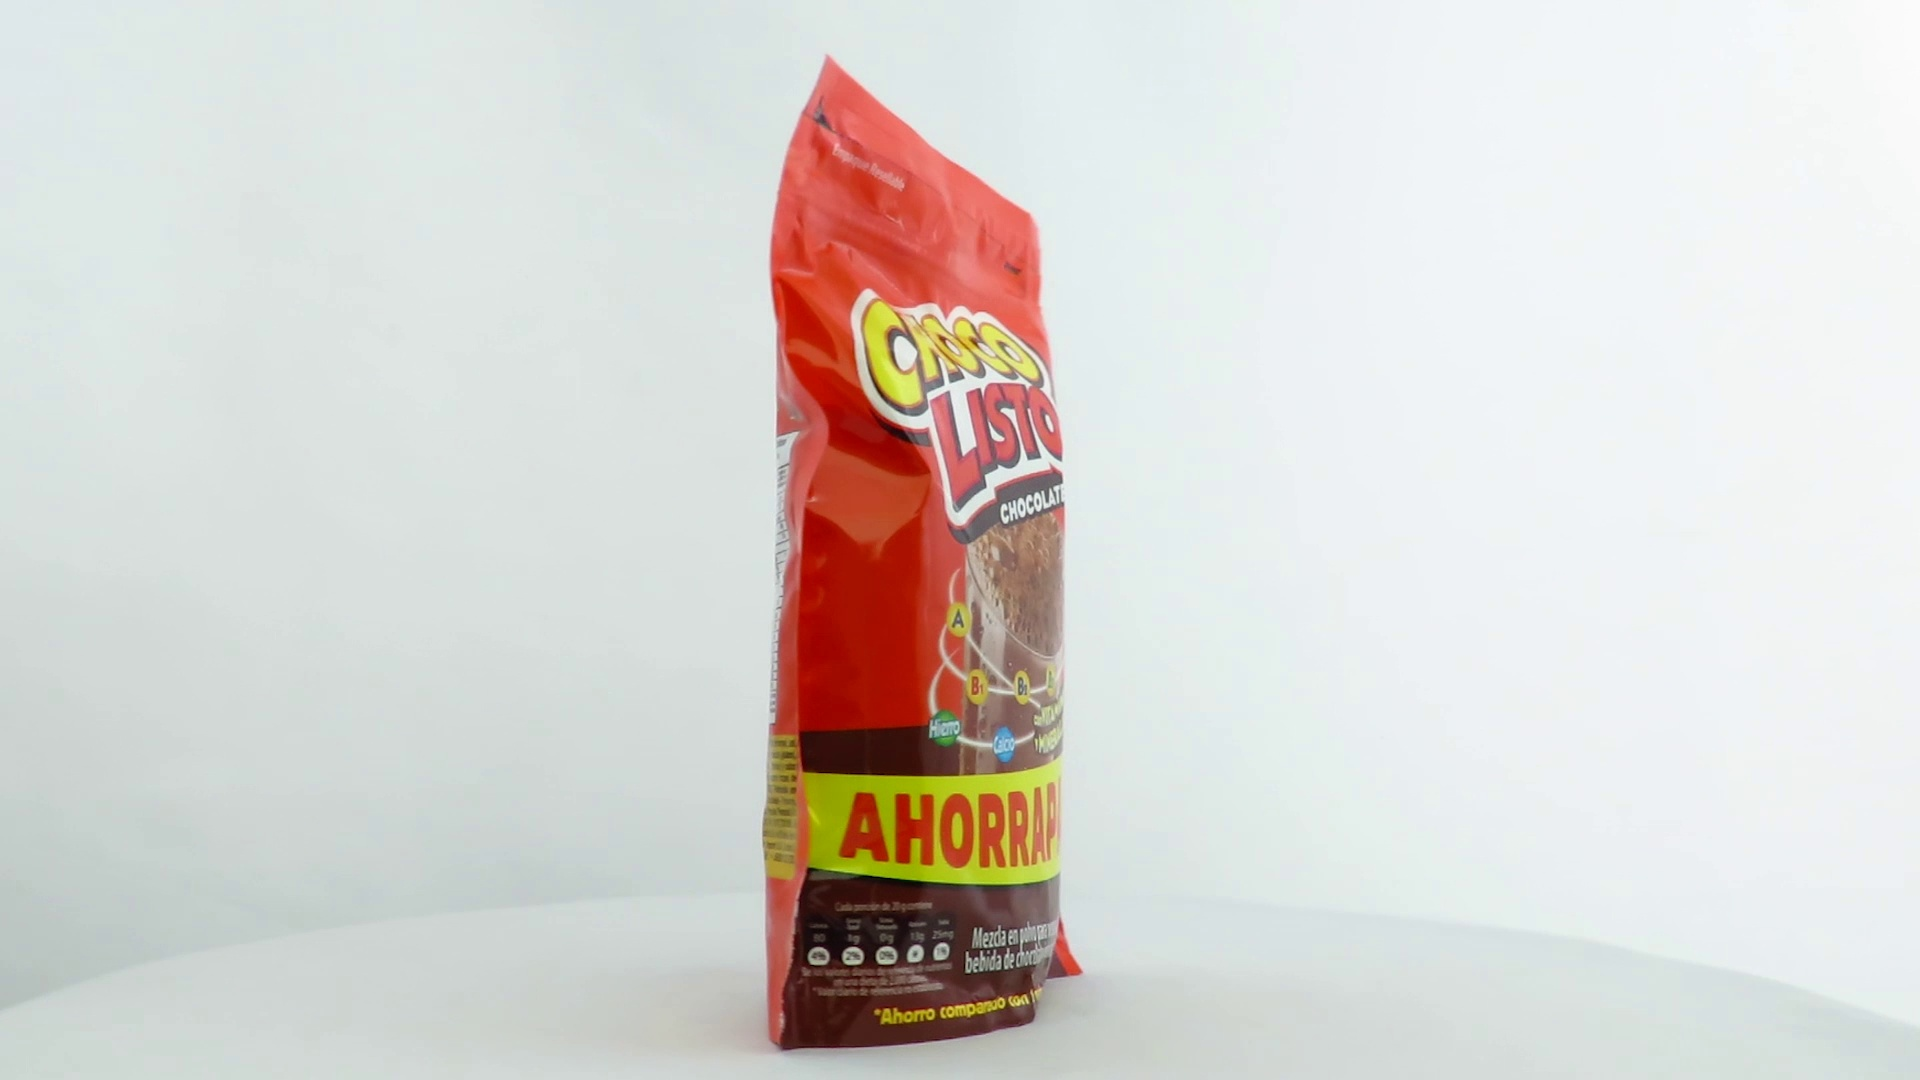COL0170103DYP40000: (757, 49, 1089, 1058)
